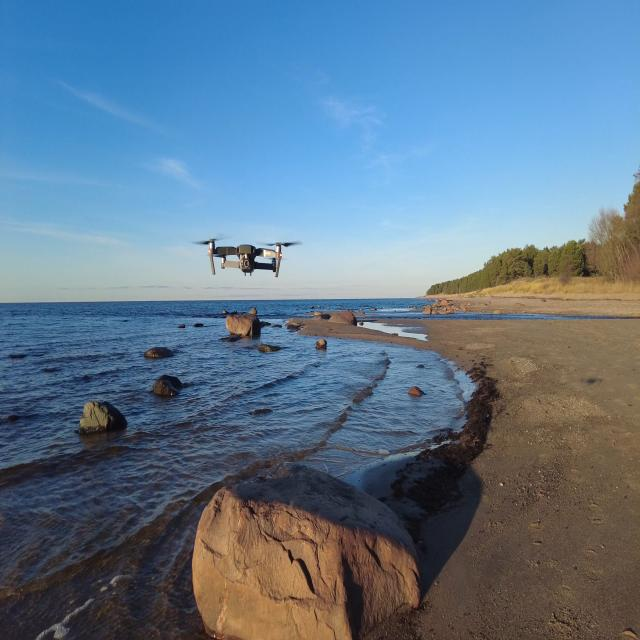Drone: (199, 240, 296, 277)
